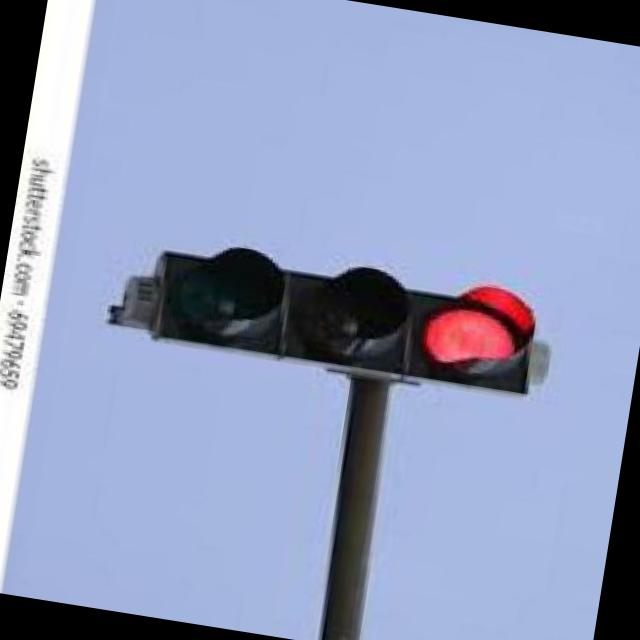red-lights: (402, 274, 544, 392)
